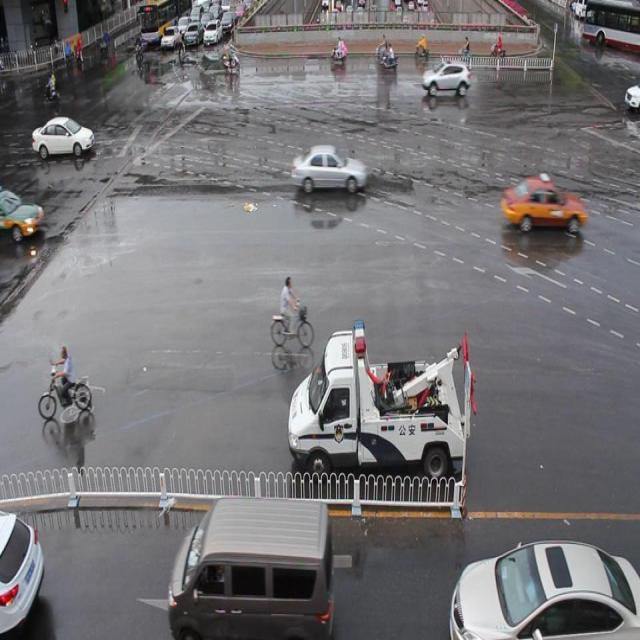bus: (289, 308, 475, 475)
car: (448, 539, 640, 640), (0, 508, 44, 640), (502, 173, 586, 234), (290, 144, 368, 195), (420, 60, 470, 96)
truck: (169, 494, 332, 640)
